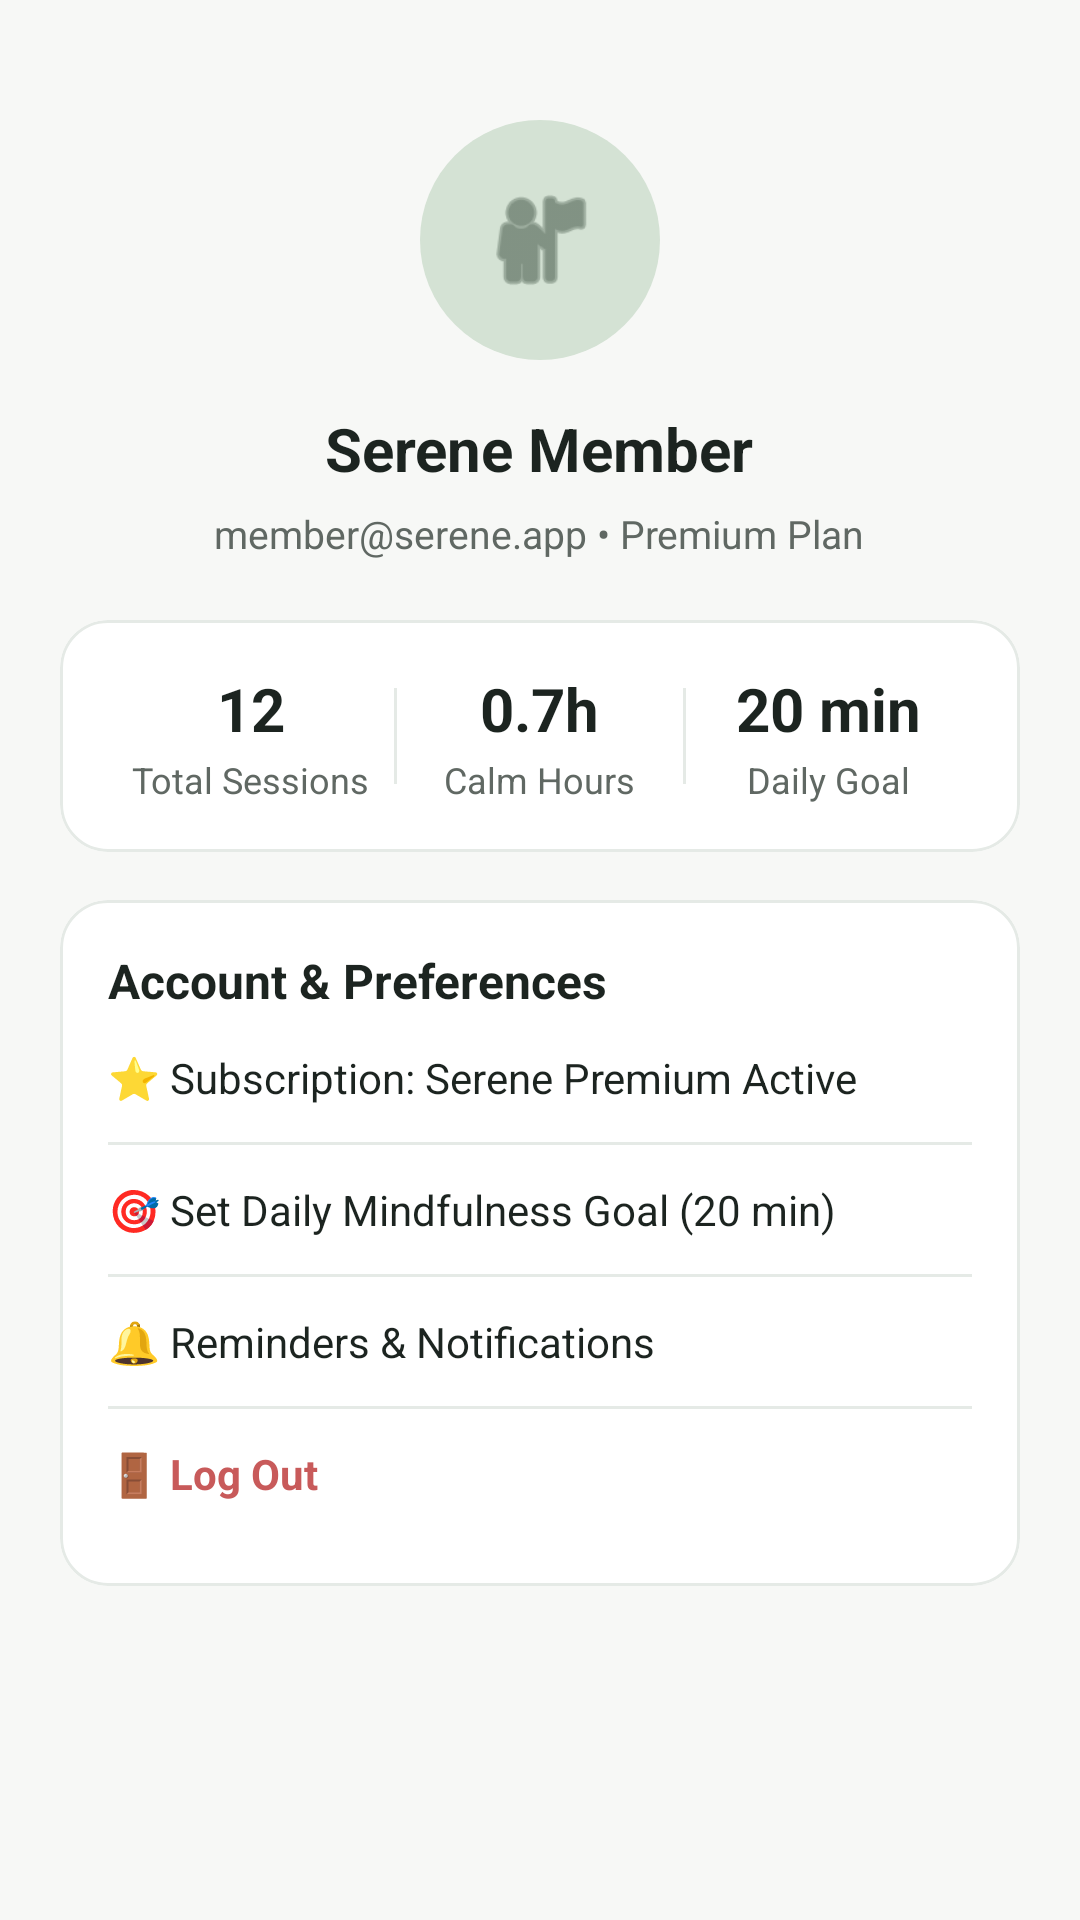

Icon click points for this 1080 x 1920 phone screenshot, format point (x, y):
Profile avatar: point (541, 240)
